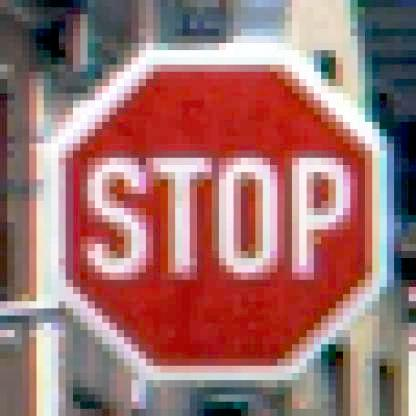Stop Sign: (44, 43, 393, 383)
